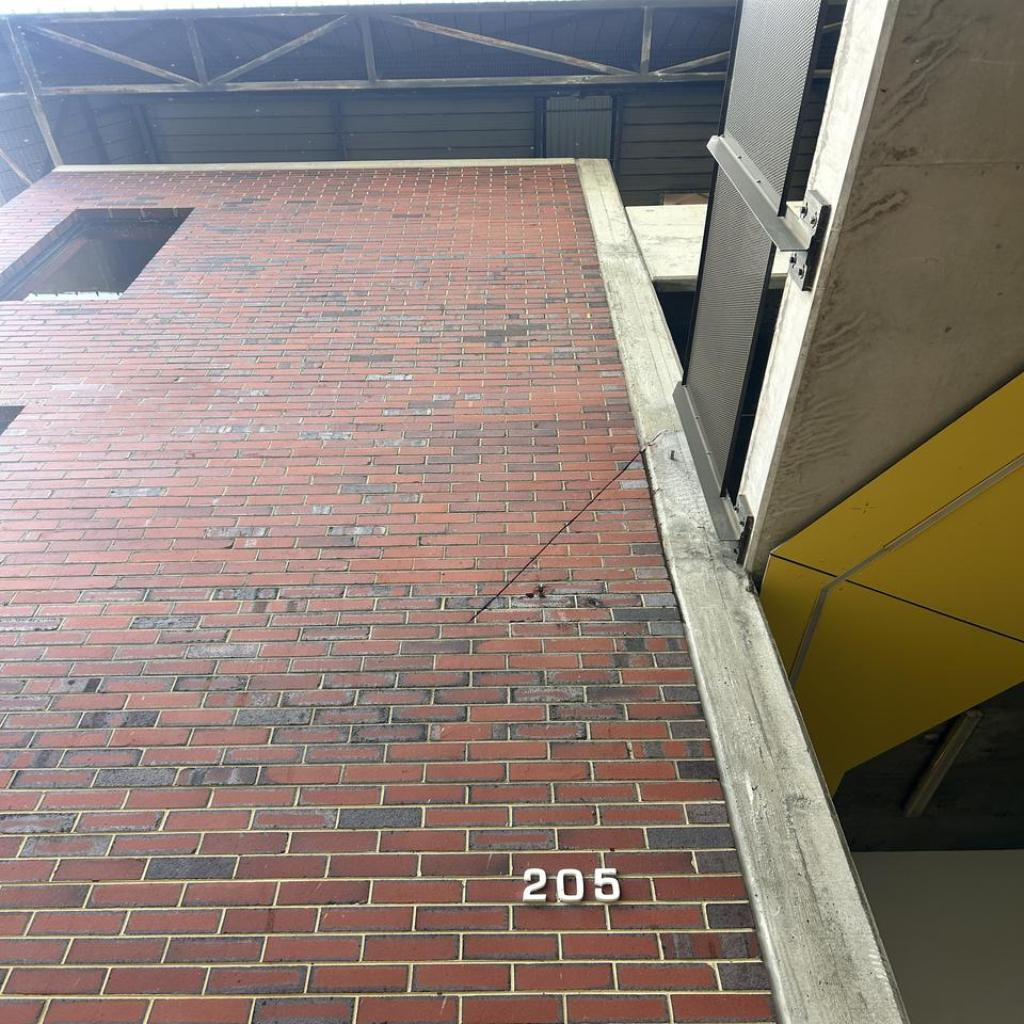BuildingCodes: (518, 864, 626, 906)
